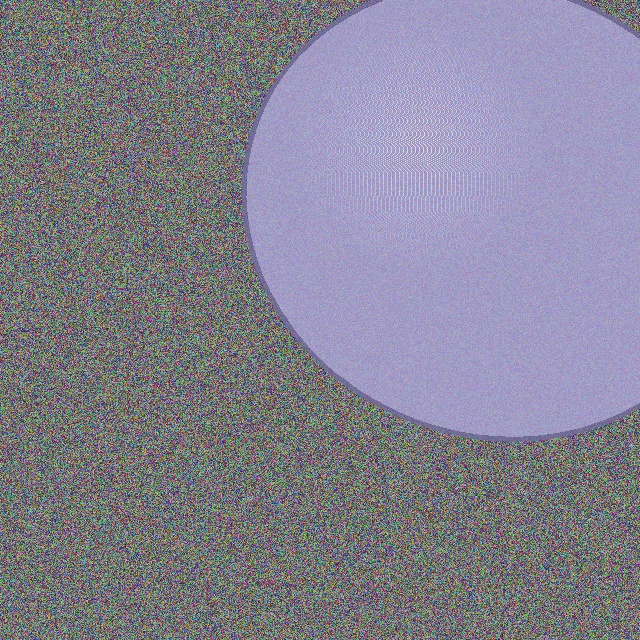lens: (244, 0, 640, 437)
